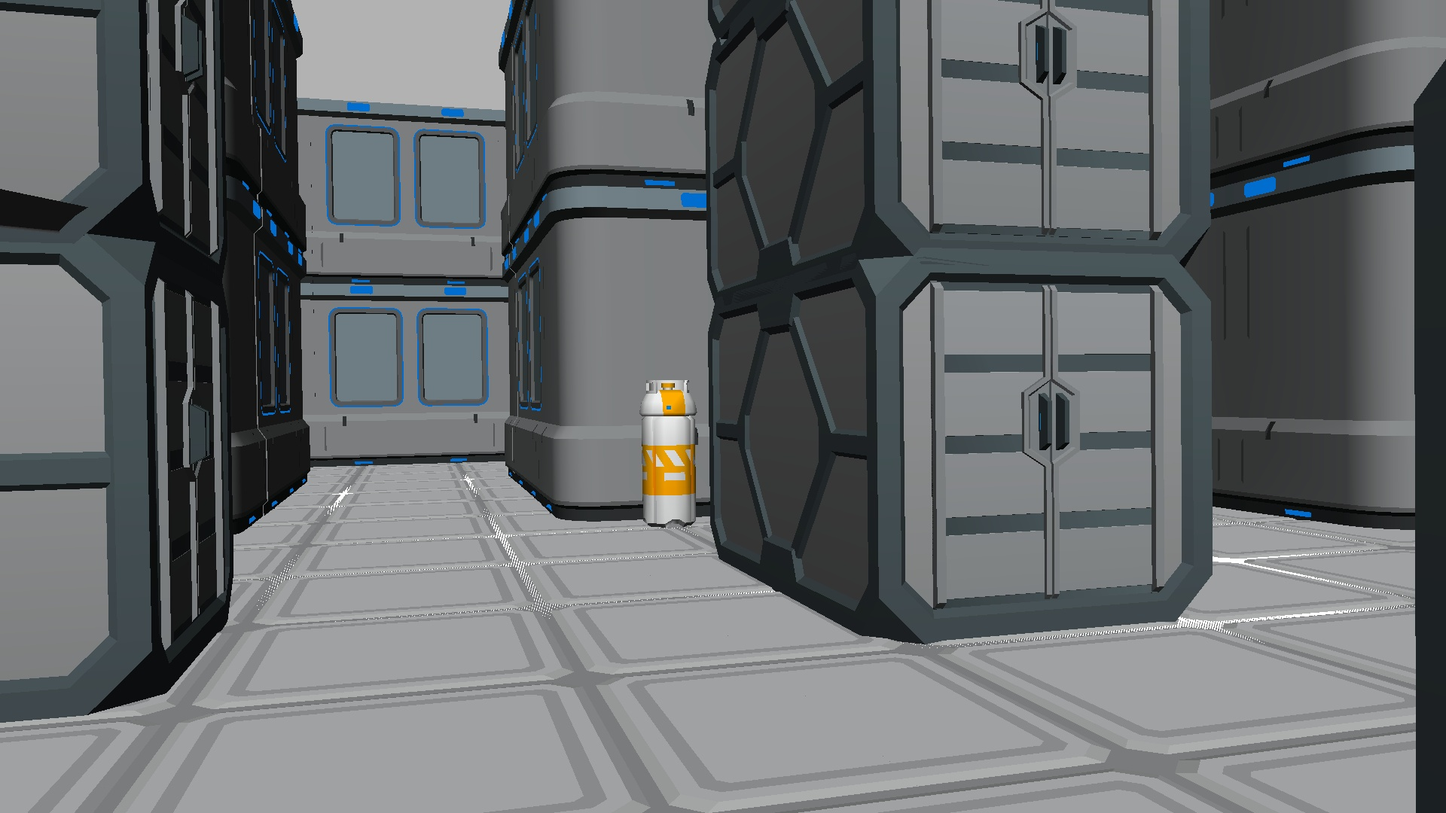yellow barrel: (639, 379, 697, 528)
